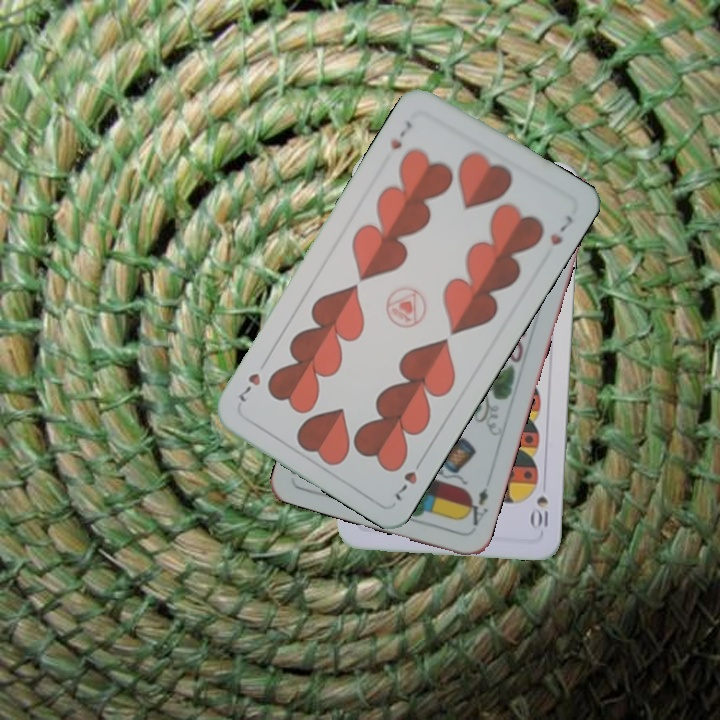EA: (460, 484, 491, 529)
H7: (389, 452, 427, 505), (385, 116, 415, 153)
S10: (529, 492, 551, 530)
